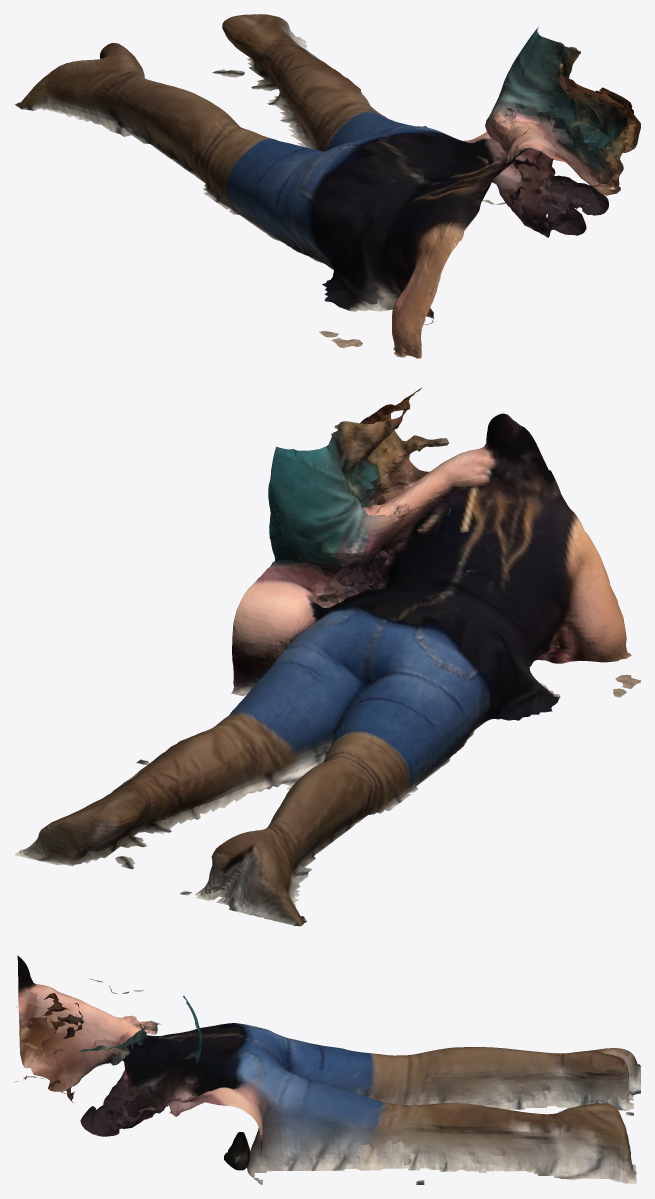
3 views of the same model, one above another, from view 1: azimuth 30°, elevation 25°; view 2: azimuth 150°, elevation 25°; view 3: azimuth 270°, elevation 25° (orthographic). The views are drawn at different scales.
Size of the model in its own units: 0.6577 by 0.4534 by 1.42.
1 material, 1 textured.
